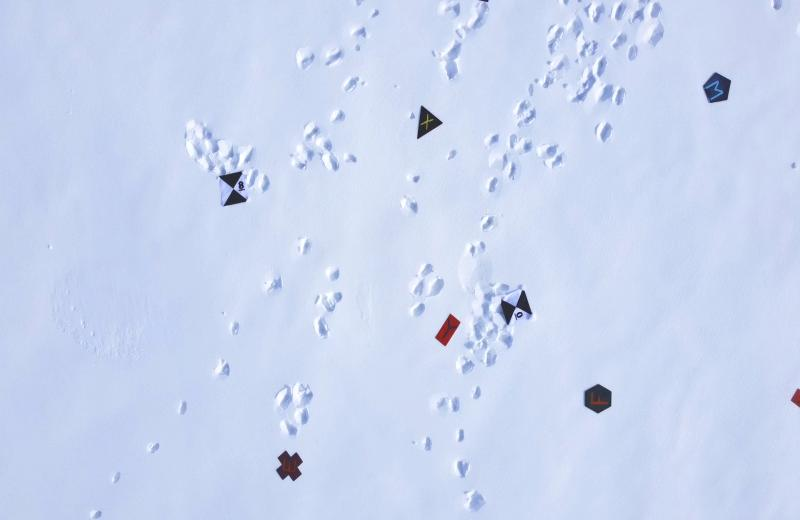Cross: (273, 450, 308, 480)
Hexagon: (581, 380, 613, 416)
Pentagon: (699, 69, 733, 110)
Rectangle: (435, 311, 461, 348)
Triangle: (413, 102, 445, 140)
